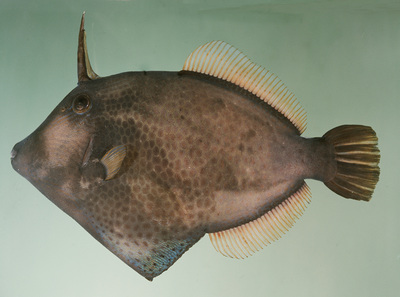fish: (10, 11, 381, 282)
